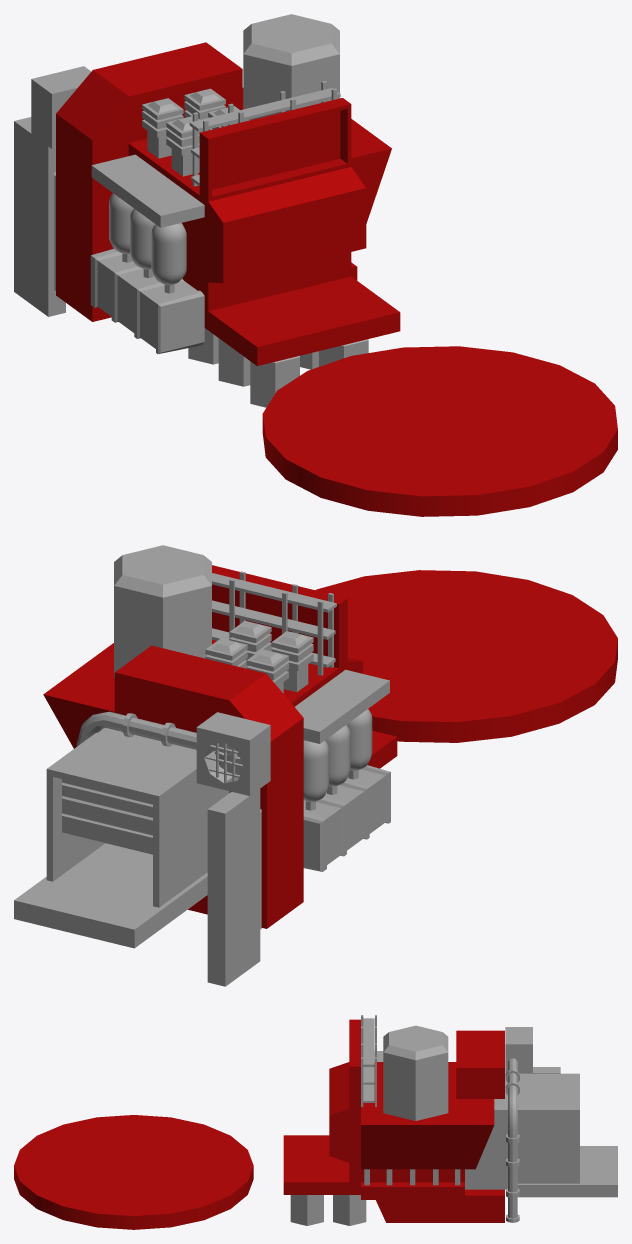
The model's file is DockingStation.fbx.
The picture shows the model from 3 angles, top to bottom: view 1: azimuth 30°, elevation 25°; view 2: azimuth 150°, elevation 25°; view 3: azimuth 270°, elevation 25°; orthographic projection. The views are drawn at different scales.
Parts seen in each view (by area): view 1: pCylinder26, pCube1, pCube22, pCylinder1, pCube25, pCube23, pCube26, polySurface1, pCylinder17, pCylinder10, pCube21, pCube10 (+7 smaller); view 2: pCylinder26, pCube22, pCube28, pCube24, pCylinder1, pCube1, pCube23, pCube25, pCube29, polySurface1, pCube26, pCylinder24 (+9 smaller); view 3: pCylinder26, pCube1, pCube28, pCube22, pCylinder1, pCube24, pCylinder24, polySurface1, pCylinder8, pCylinder9, pCube10.
Part boxes in pixels (left/top/right/bottom): pCylinder26: left=262, top=346, right=617, bottom=516; pCube1: left=128, top=88, right=400, bottom=365; pCube22: left=56, top=42, right=242, bottom=321; pCylinder1: left=243, top=14, right=339, bottom=120; pCube25: left=90, top=248, right=204, bottom=353; pCube23: left=14, top=117, right=65, bottom=316; pCube26: left=91, top=154, right=204, bottom=227; polySurface1: left=31, top=66, right=91, bottom=148; pCylinder17: left=151, top=223, right=186, bottom=284; pCylinder10: left=250, top=356, right=299, bottom=407; pCube21: left=142, top=98, right=183, bottom=158; pCube10: left=189, top=88, right=340, bottom=131; pCylinder26: left=315, top=570, right=617, bottom=742; pCube22: left=114, top=645, right=303, bottom=928; pCube28: left=46, top=728, right=229, bottom=907; pCube24: left=14, top=843, right=207, bottom=948; pCylinder1: left=114, top=545, right=211, bottom=677; pCube1: left=43, top=565, right=397, bottom=768; pCube23: left=207, top=789, right=260, bottom=986; pCube25: left=303, top=765, right=390, bottom=871; pCube29: left=62, top=779, right=152, bottom=854; polySurface1: left=196, top=712, right=270, bottom=795; pCube26: left=295, top=669, right=389, bottom=743; pCylinder24: left=76, top=711, right=196, bottom=749; pCylinder26: left=14, top=1115, right=253, bottom=1229; pCube1: left=283, top=1019, right=494, bottom=1199; pCube28: left=465, top=1073, right=579, bottom=1189; pCube22: left=376, top=1030, right=504, bottom=1222; pCylinder1: left=383, top=1025, right=448, bottom=1120; pCube24: left=507, top=1146, right=617, bottom=1197; pCylinder24: left=505, top=1058, right=519, bottom=1222; polySurface1: left=505, top=1027, right=532, bottom=1073; pCylinder8: left=290, top=1195, right=323, bottom=1225; pCylinder9: left=333, top=1195, right=366, bottom=1225; pCube10: left=363, top=1018, right=374, bottom=1066.
Size of the model in its own units: 148 by 135 by 373.
